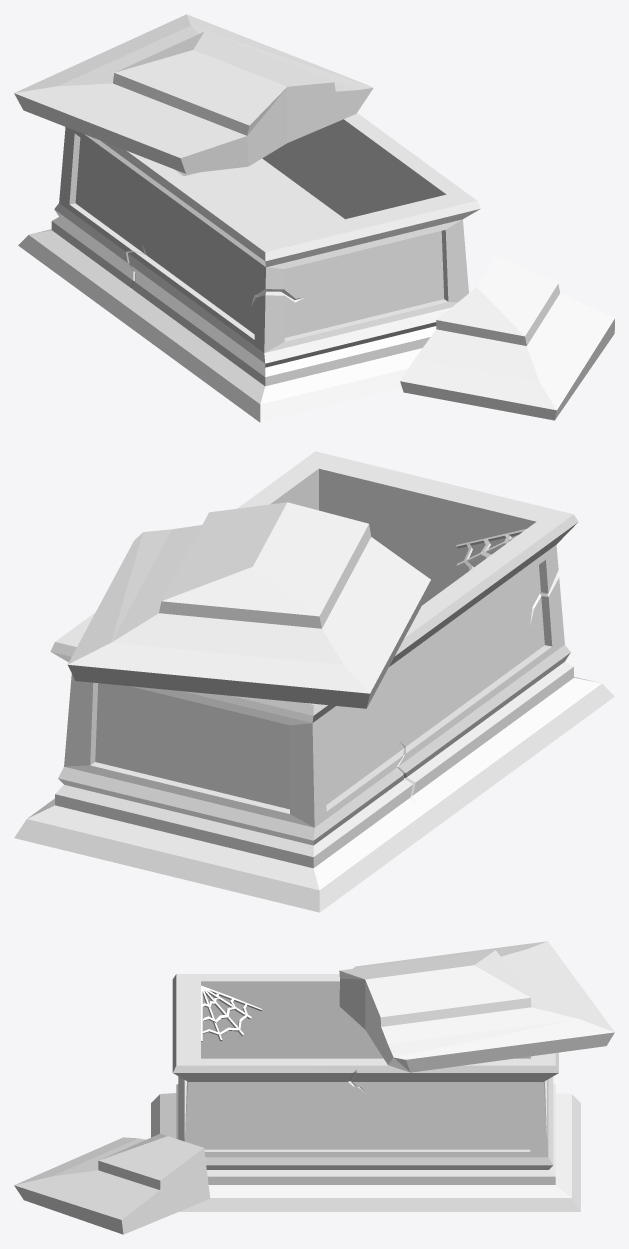
File: coffin_2.fbx
The picture shows the model from 3 angles, top to bottom: view 1: azimuth 30°, elevation 25°; view 2: azimuth 150°, elevation 25°; view 3: azimuth 270°, elevation 25°; orthographic projection. The views are drawn at different scales.
Visible parts, largest first — view 1: Sarcophagus_B; view 2: Sarcophagus_B; view 3: Sarcophagus_B.
Boxes of the visible parts, x1,y1,x2,y2 form: Sarcophagus_B: [14, 14, 614, 422]; Sarcophagus_B: [14, 451, 614, 912]; Sarcophagus_B: [14, 941, 614, 1234].
Size of the model in its own units: 23.27 by 13 by 37.67.
